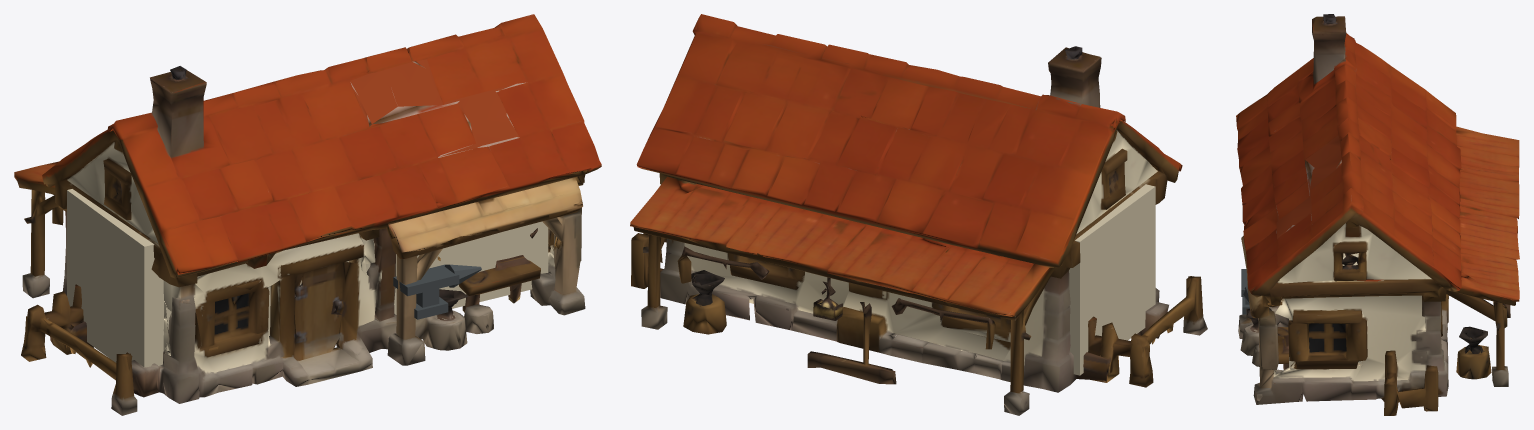
File: weapon_shop.glb
The picture shows the model from 3 angles, left to right: view 1: azimuth 30°, elevation 25°; view 2: azimuth 150°, elevation 25°; view 3: azimuth 270°, elevation 25°; orthographic projection. The views are drawn at different scales.
Visible parts, largest first — view 1: weapon_shop; view 2: weapon_shop; view 3: weapon_shop.
Boxes of the visible parts, x1,y1,x2,y2 form: weapon_shop: [14, 14, 601, 415]; weapon_shop: [630, 14, 1207, 415]; weapon_shop: [1236, 14, 1519, 415].
Bounding box in the file's own units: 8 × 4.4 × 4.61.
Materials: 4 (1 with a texture image).
